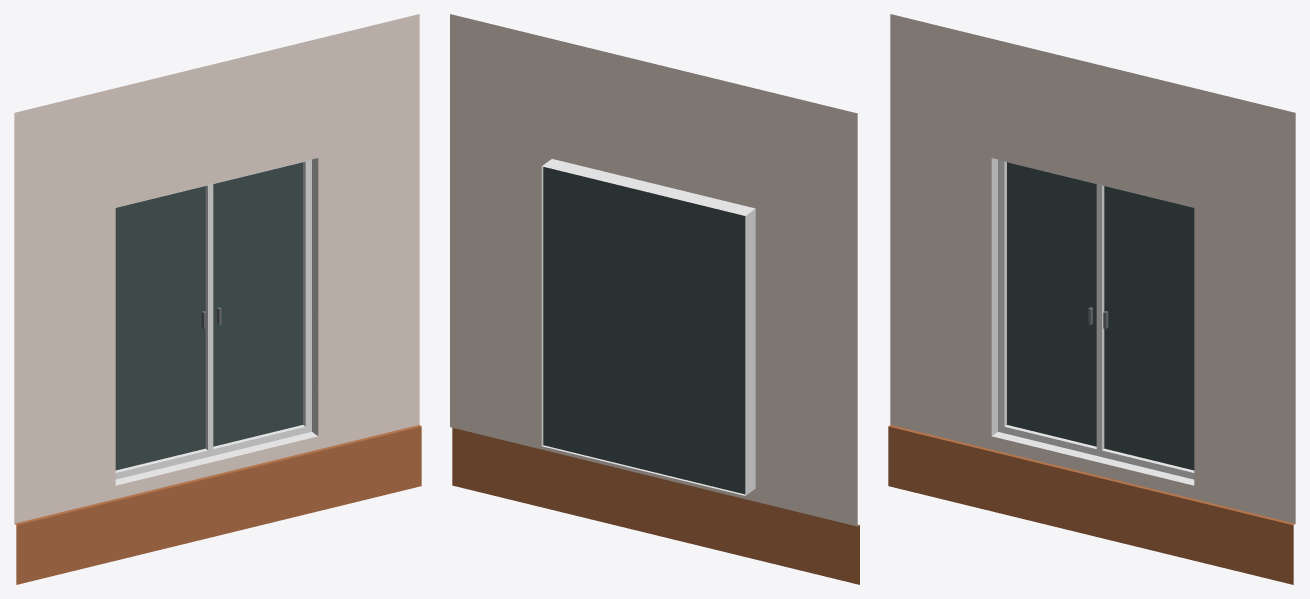
File: base-w3_close.fbx
3 renders of one model, left to right at view 1: azimuth 30°, elevation 25°; view 2: azimuth 150°, elevation 25°; view 3: azimuth 330°, elevation 25°, orthographic.
Visible parts, largest first — view 1: a2000s2/200/base-w3_close; view 2: a2000s2/200/base-w3_close; view 3: a2000s2/200/base-w3_close.
Boxes of the visible parts, x1,y1,x2,y2 form: a2000s2/200/base-w3_close: [14, 14, 421, 584]; a2000s2/200/base-w3_close: [450, 14, 859, 584]; a2000s2/200/base-w3_close: [888, 14, 1295, 584].
Bounding box in the file's own units: 3.2 × 3.55 × 0.17.
